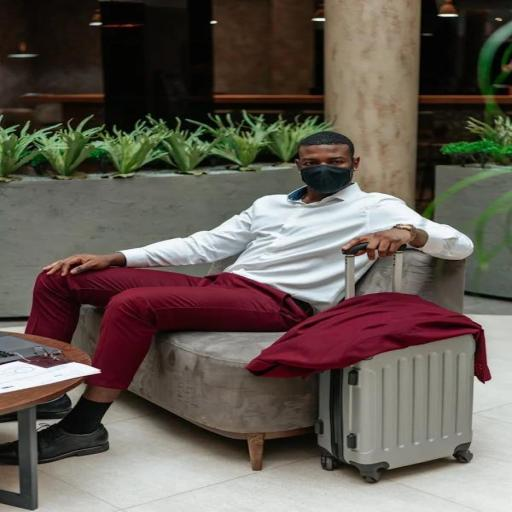mask: (273, 131, 376, 210)
